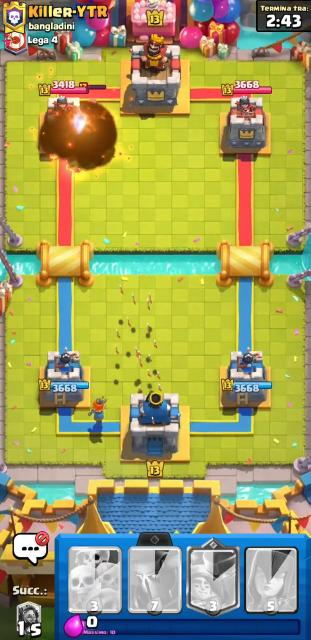ally_melee: (91, 397, 106, 424)
enemy_melee: (79, 82, 107, 120)
